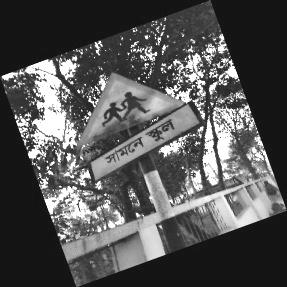School-in-front: (77, 71, 203, 187)
